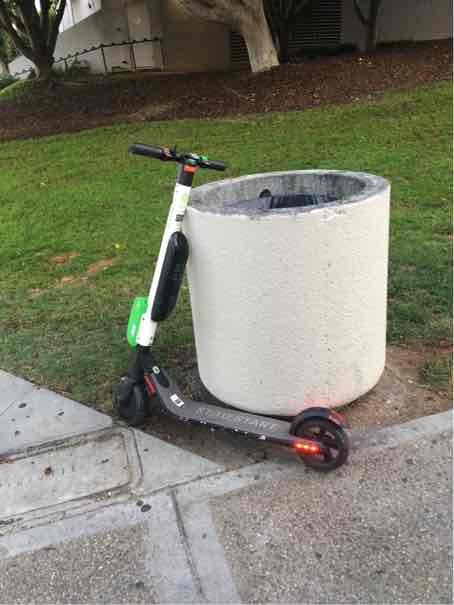scooter: (91, 140, 351, 479)
